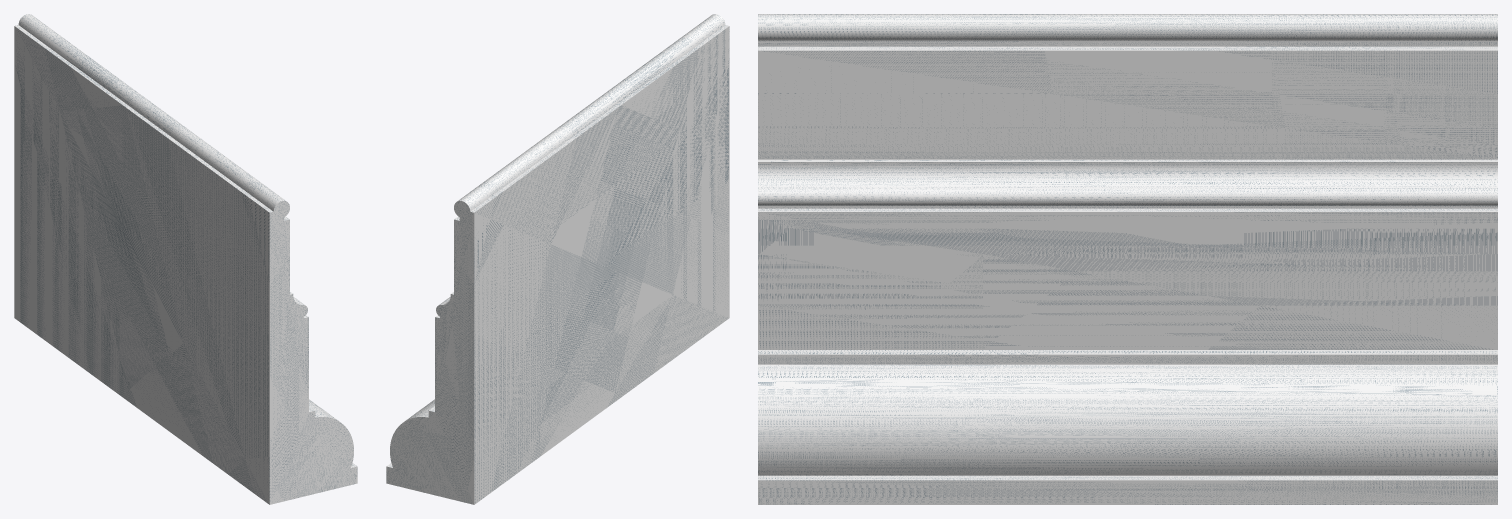
File: moulding.dae
3 renders of one model, left to right at view 1: azimuth 30°, elevation 25°; view 2: azimuth 150°, elevation 25°; view 3: azimuth 270°, elevation 25°, orthographic. The views are drawn at different scales.
Visible parts, largest first — view 1: KB112; view 2: KB112; view 3: KB112.
Boxes of the visible parts, x1,y1,x2,y2 form: KB112: (14,14,357,504); KB112: (386,14,729,504); KB112: (758,14,1497,504).
Bounding box in the file's own units: 1.68 × 8.45 × 5.5.
